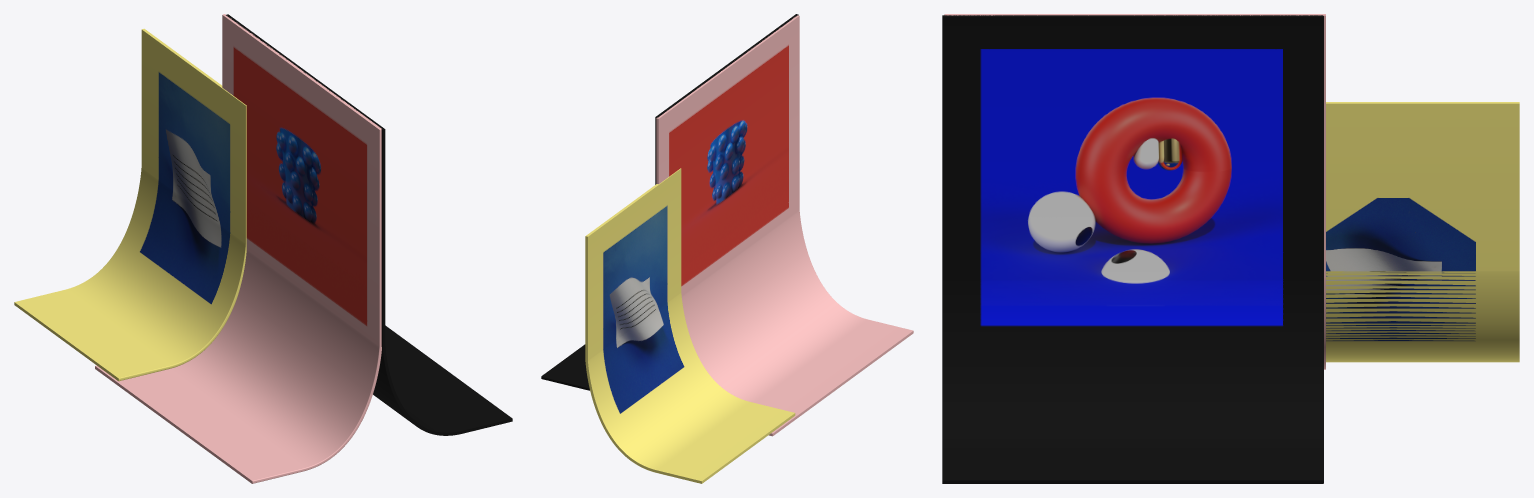
Rendered from Paneaux3.glb.
The picture shows the model from 3 angles, left to right: view 1: azimuth 30°, elevation 25°; view 2: azimuth 150°, elevation 25°; view 3: azimuth 270°, elevation 25°; orthographic projection. The views are drawn at different scales.
Parts seen in each view (by area): view 1: model 2, model 9, model 3; view 2: model 2, model 9, model 3; view 3: model 3, model 9, model 2.
Part boxes in pixels (x1,y1,x2,y2): model 2: (95,14,381,483); model 9: (14,28,246,381); model 3: (226,14,512,435); model 2: (656,15,913,436); model 9: (585,168,795,483); model 3: (541,14,798,390); model 3: (942,15,1323,483); model 9: (1326,102,1519,362); model 2: (944,14,1325,369).
Size of the model in its own units: 3.85 by 4.57 by 6.1.
3 materials, 3 textured.
